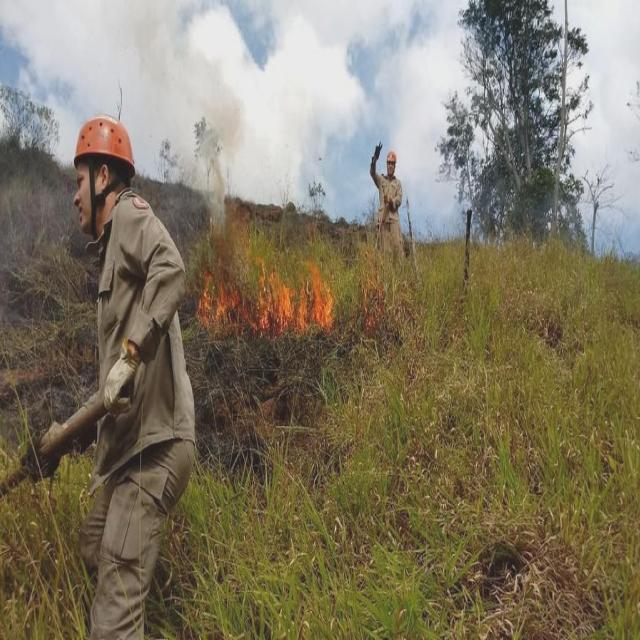Fire: (195, 234, 333, 329), (352, 249, 384, 334)
Smoke: (132, 17, 248, 234)
